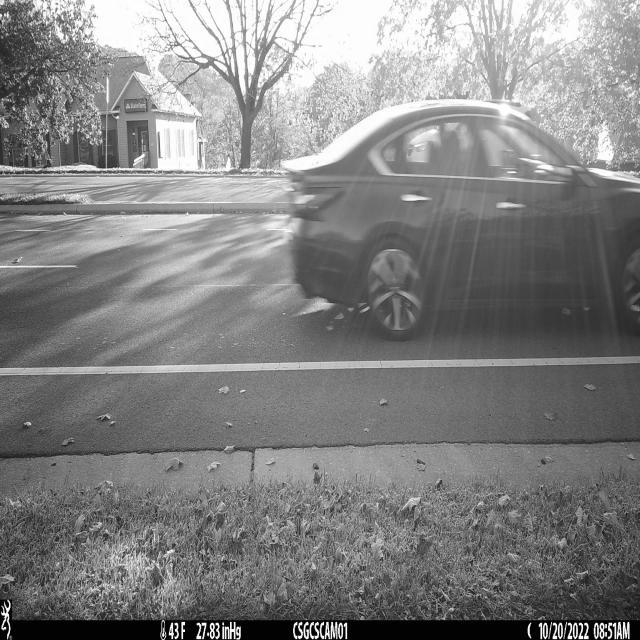Sedan: (283, 99, 640, 340)
